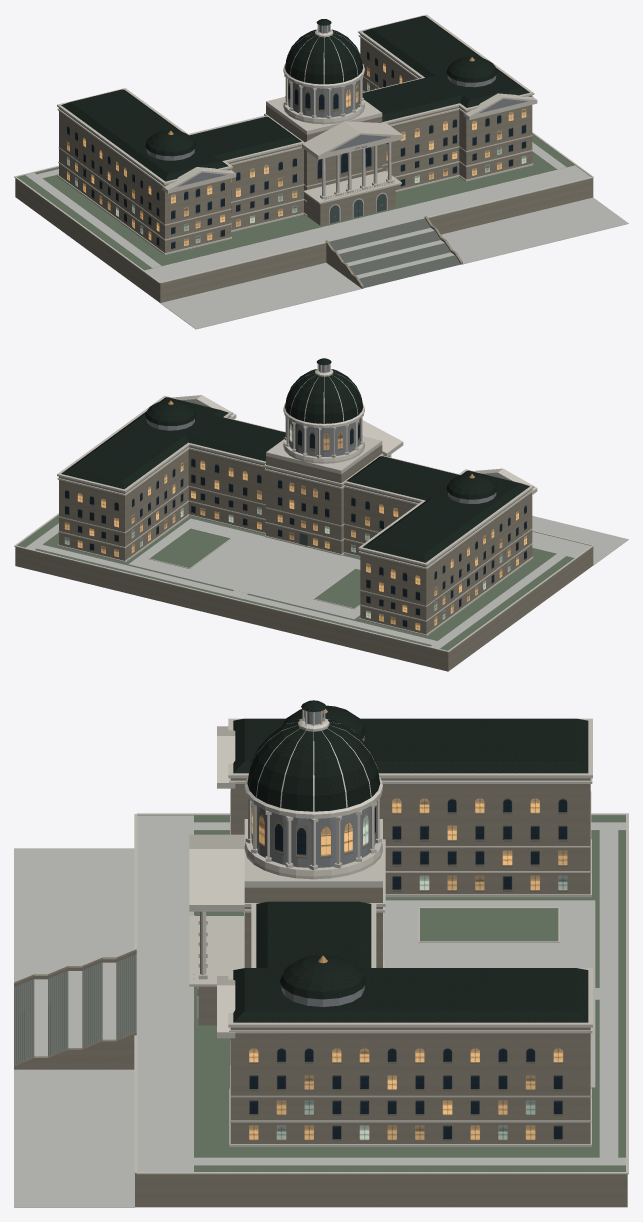
Rendered from city_hall.glb.
3 views of the same model, one above another, from view 1: azimuth 30°, elevation 25°; view 2: azimuth 150°, elevation 25°; view 3: azimuth 270°, elevation 25° (orthographic). The views are drawn at different scales.
Parts seen in each view (by area): view 1: Green roofs, West wing, Terrace lawn, Entrance esplanade, Facade glazing, Cornices, Front setback plaza -1, Front setback plaza 1, East wing, Grand staircase, West link, East link (+26 smaller); view 2: Green roofs, Raised terrace, Courtyard paving, West wing, Facade glazing, Cornices, East wing, Terrace lawn, Central block, East link, Central green dome, Courtyard lawn beds (+17 smaller); view 3: Green roofs, East wing, Entrance esplanade, West wing, Terrace lawn, Front setback plaza 1, Raised terrace, Front setback plaza -1, Cornices, Courtyard paving, Facade glazing, Central green dome (+23 smaller).
Boxes of the visible parts, bbox=[...] form: Green roofs: bbox=[61, 16, 529, 181]; West wing: bbox=[59, 108, 230, 253]; Terrace lawn: bbox=[17, 134, 574, 270]; Entrance esplanade: bbox=[143, 165, 590, 302]; Facade glazing: bbox=[66, 107, 526, 249]; Cornices: bbox=[57, 14, 534, 254]; Front setback plaza -1: bbox=[160, 262, 361, 329]; Front setback plaza 1: bbox=[441, 197, 628, 264]; East wing: bbox=[360, 34, 532, 179]; Grand staircase: bbox=[329, 218, 460, 287]; West link: bbox=[228, 145, 303, 230]; East link: bbox=[382, 106, 459, 190]; Green roofs: bbox=[61, 397, 529, 562]; Raised terrace: bbox=[15, 547, 575, 671]; Courtyard paving: bbox=[128, 518, 360, 619]; West wing: bbox=[360, 489, 532, 634]; Facade glazing: bbox=[64, 457, 526, 631]; Cornices: bbox=[57, 395, 534, 636]; East wing: bbox=[59, 416, 230, 560]; Terrace lawn: bbox=[17, 515, 574, 650]; Central block: bbox=[266, 445, 382, 553]; East link: bbox=[188, 446, 265, 532]; Central green dome: bbox=[285, 369, 363, 423]; Courtyard lawn beds: bbox=[150, 528, 360, 608]; Green roofs: bbox=[233, 718, 588, 1022]; East wing: bbox=[230, 1027, 590, 1143]; Entrance esplanade: bbox=[136, 815, 193, 1207]; West wing: bbox=[230, 778, 590, 894]; Terrace lawn: bbox=[194, 815, 625, 1171]; Front setback plaza 1: bbox=[14, 1069, 134, 1207]; Raised terrace: bbox=[194, 1174, 627, 1207]; Front setback plaza -1: bbox=[14, 848, 134, 982]; Cornices: bbox=[228, 718, 592, 1146]; Courtyard paving: bbox=[383, 900, 595, 1087]; Facade glazing: bbox=[248, 1047, 563, 1141]; Central green dome: bbox=[247, 718, 380, 811].
Size of the model in its own units: 185 by 78.11 by 133.
13 materials, 5 textured.
